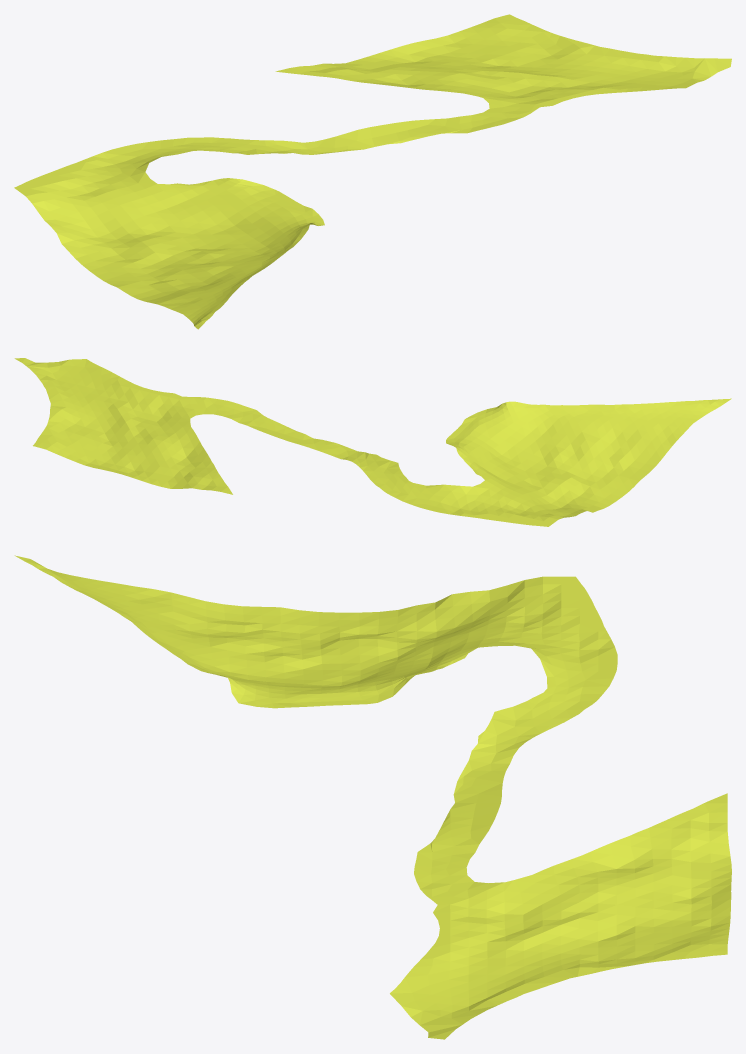
The model's file is col_carisle_mid_seabed_01.fbx.
3 views of the same model, one above another, from view 1: azimuth 30°, elevation 25°; view 2: azimuth 150°, elevation 25°; view 3: azimuth 270°, elevation 25° (orthographic). The views are drawn at different scales.
Parts seen in each view (by area): view 1: col_carisle_mid_seabed_01; view 2: col_carisle_mid_seabed_01; view 3: col_carisle_mid_seabed_01.
Boxes of the visible parts, x1,y1,x2,y2 form: col_carisle_mid_seabed_01: (14,14,731,329); col_carisle_mid_seabed_01: (14,358,731,526); col_carisle_mid_seabed_01: (14,555,731,1039).
Bounding box in the file's own units: 123 × 79.07 × 6.78.
